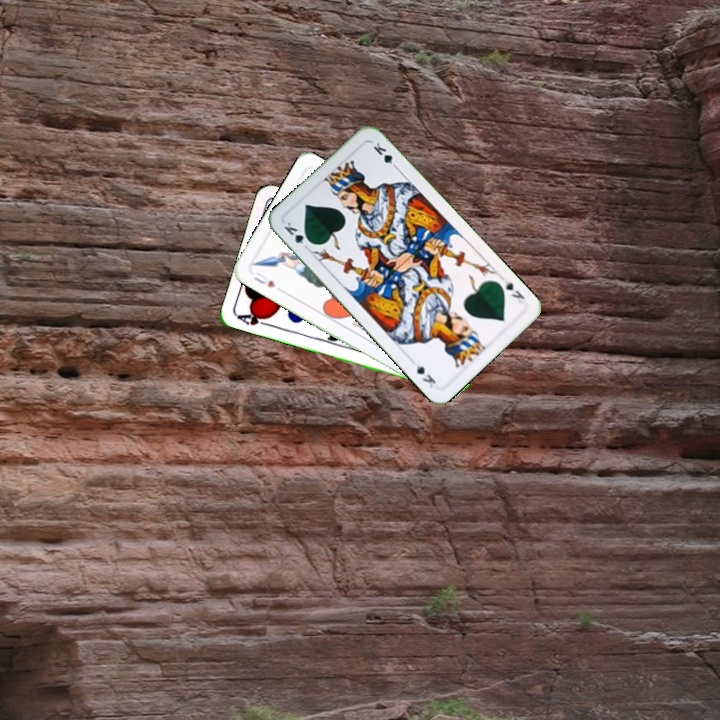GK: (280, 218, 315, 248), (500, 277, 527, 307)
HA: (233, 308, 274, 329)
HU: (250, 268, 278, 291)
